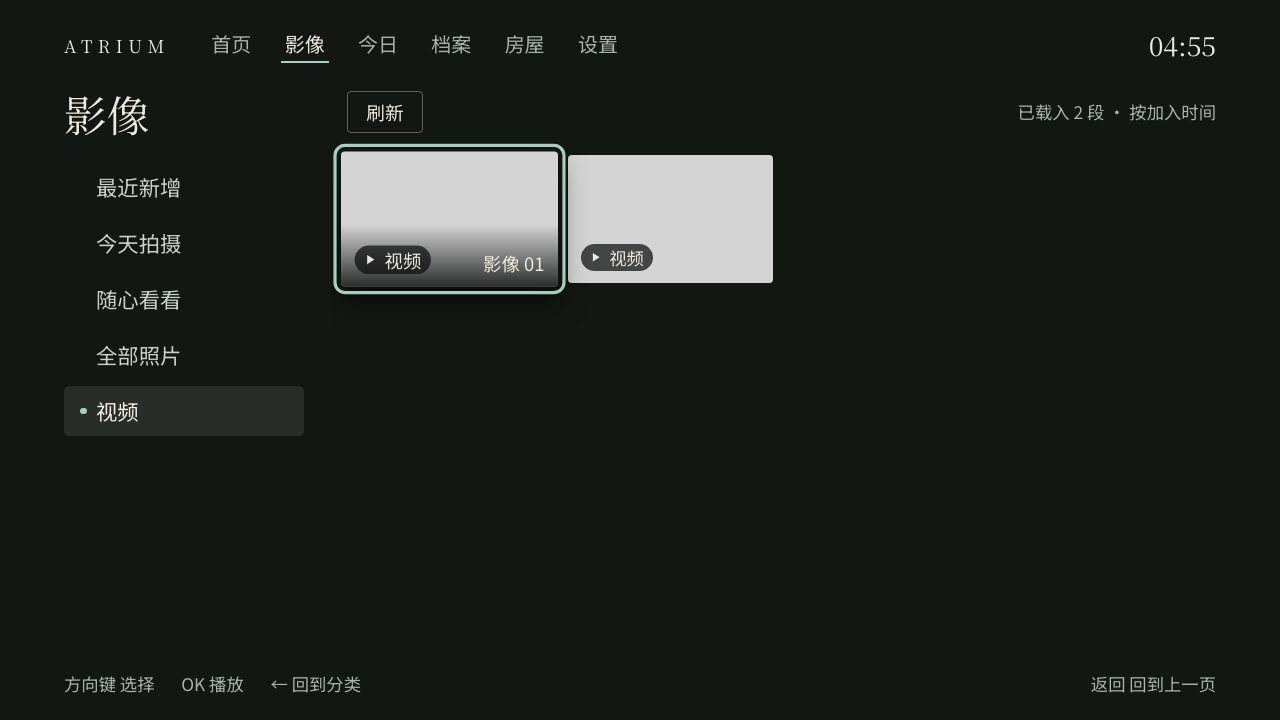
Test: stops showing a revoked video and leaves a remotely operable return action
Click the button with aria-label "视频 1". click: click(449, 219)
box: [340,151,558,287]
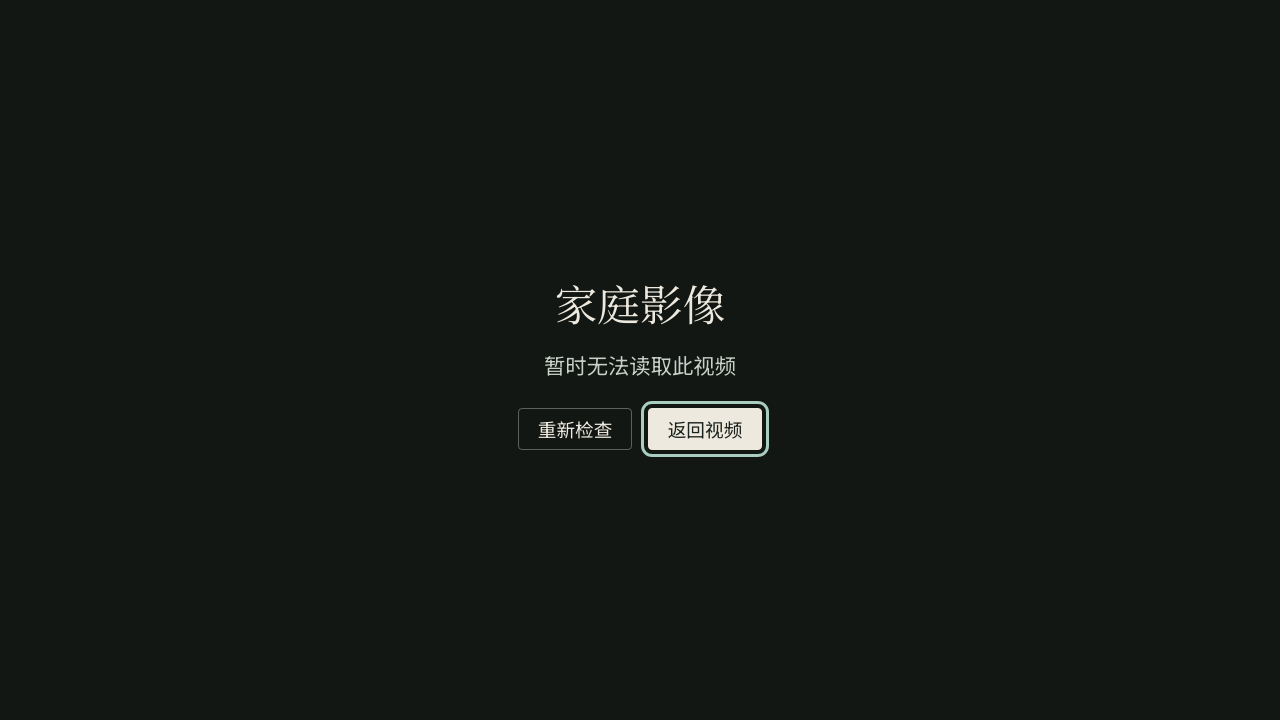
Expected: the text "暂时无法读取此视频" is shown, [544,350,736,381]
Expected: the button "返回视频" is shown, [648,408,762,450]
